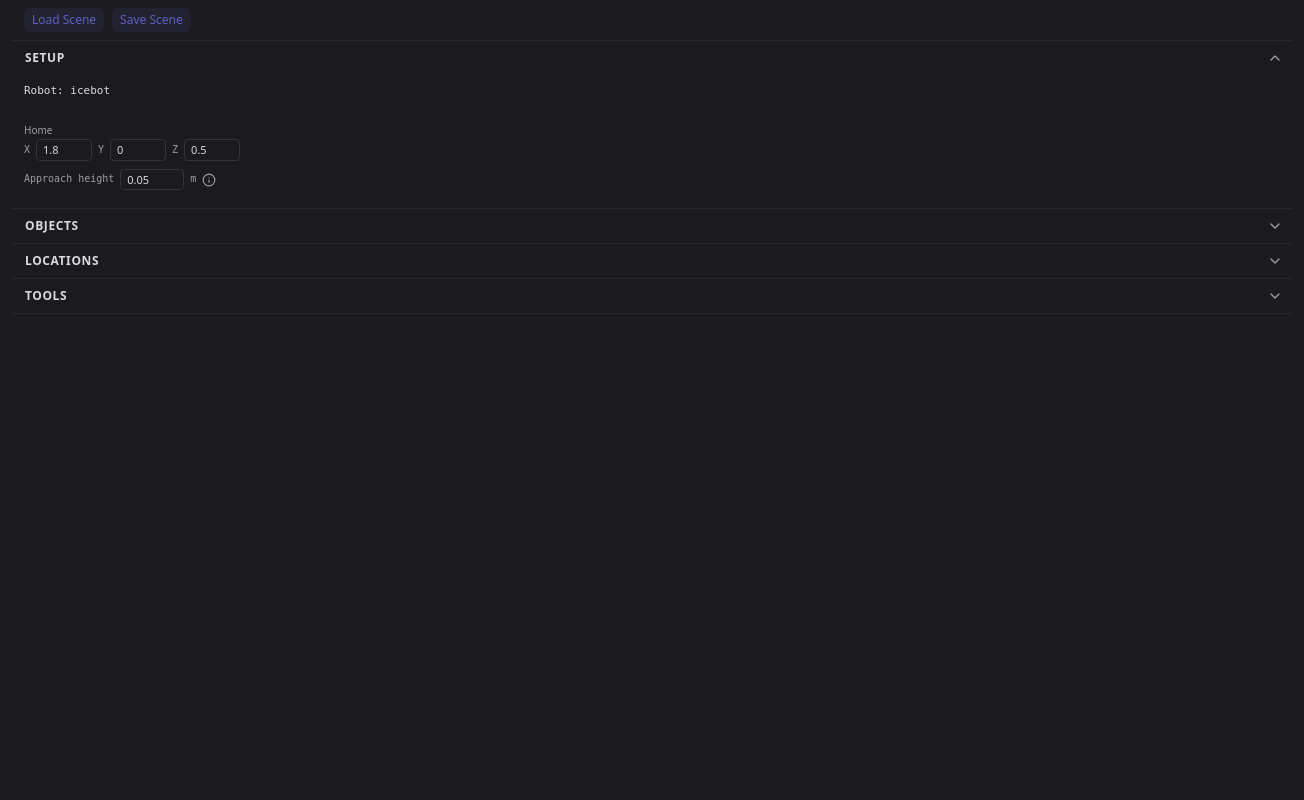
SceneEditor — list layout (V6) + SCARA wiring › shows every defined object once Objects is expanded — no inner scroll cap (V6)
Click the button "Objects". click: (52,226)
box: [12,209,1292,243]
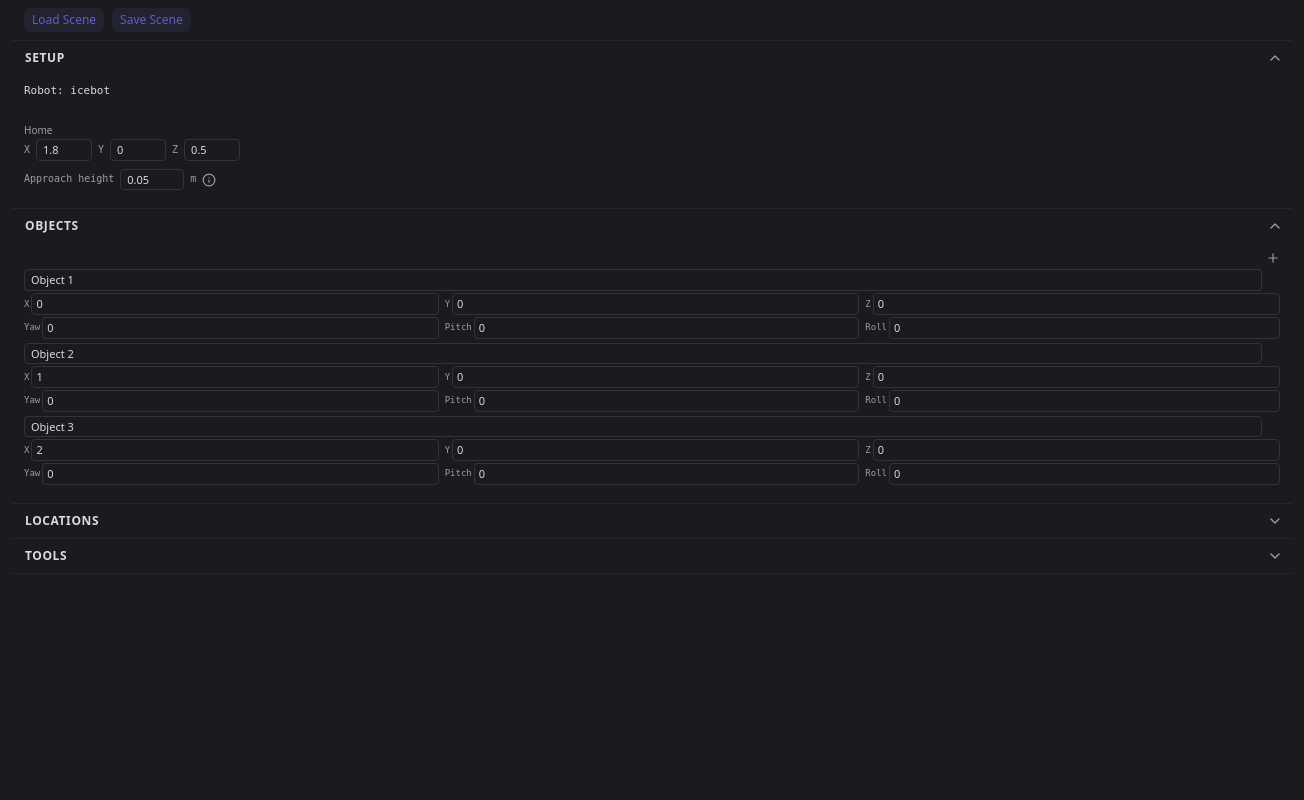
Expected: the 1st field showing "Object 1" is shown, [24,269,1262,291]
Expected: the 2nd field showing "Object 2" is shown, [24,342,1262,364]
Expected: the 3rd field showing "Object 3" is shown, [24,416,1262,437]
